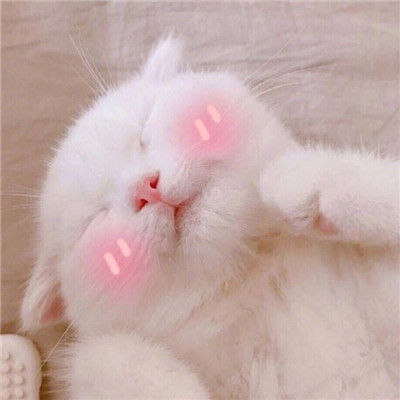cat: (16, 48, 348, 340)
